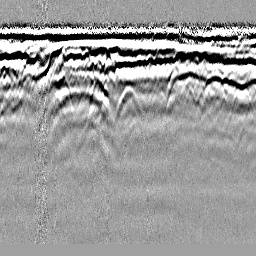cavity: (114, 86, 143, 124)
